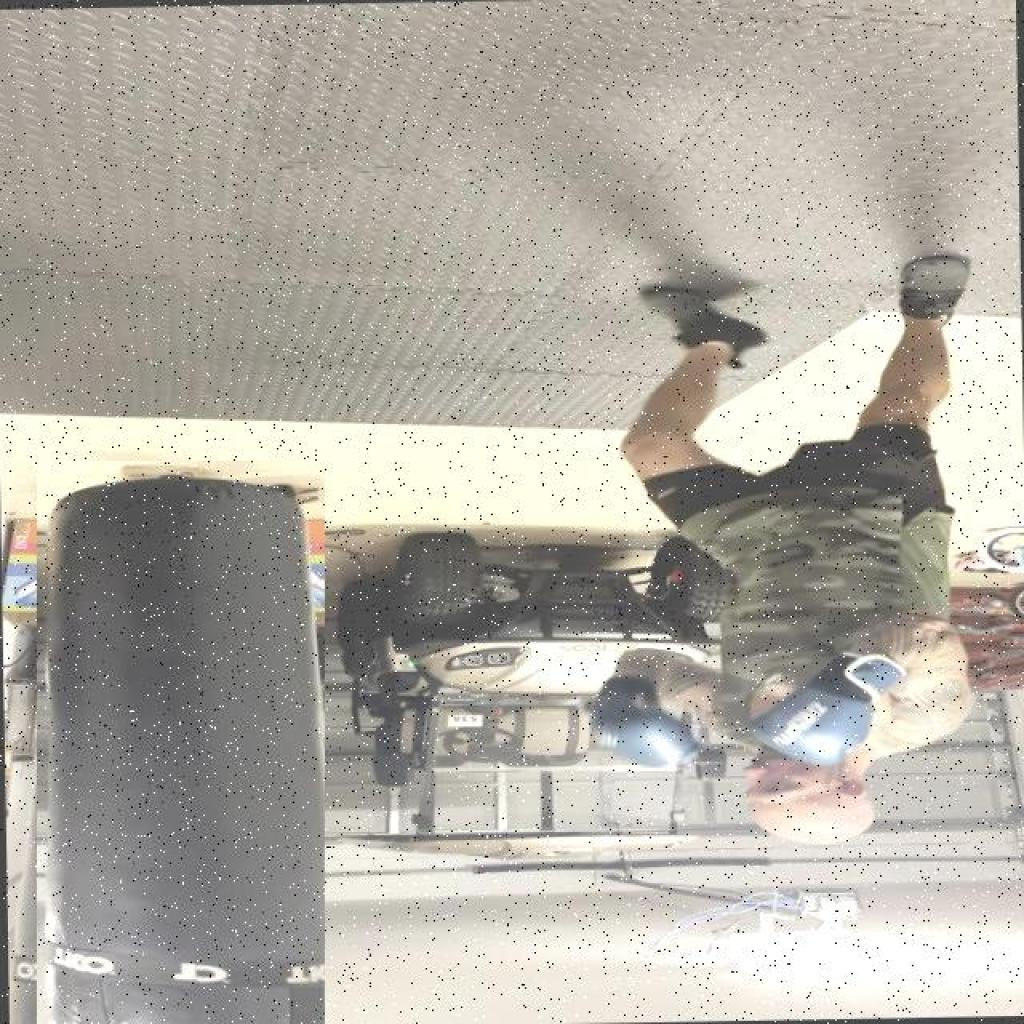bag: (37, 461, 325, 1023)
no punch: (573, 598, 982, 856), (244, 1022, 342, 1024)
